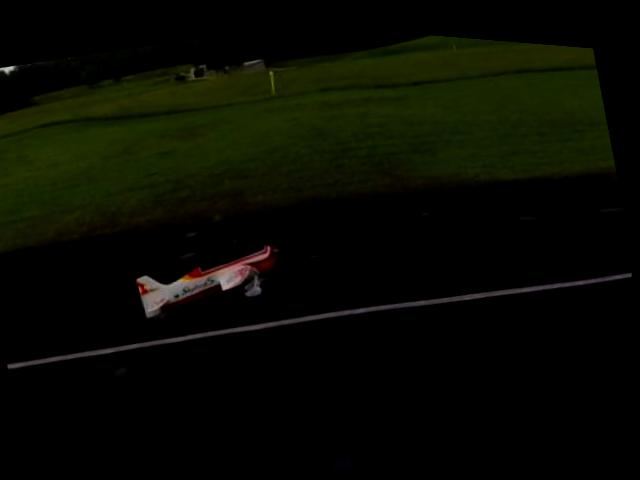uav: (118, 205, 306, 349)
